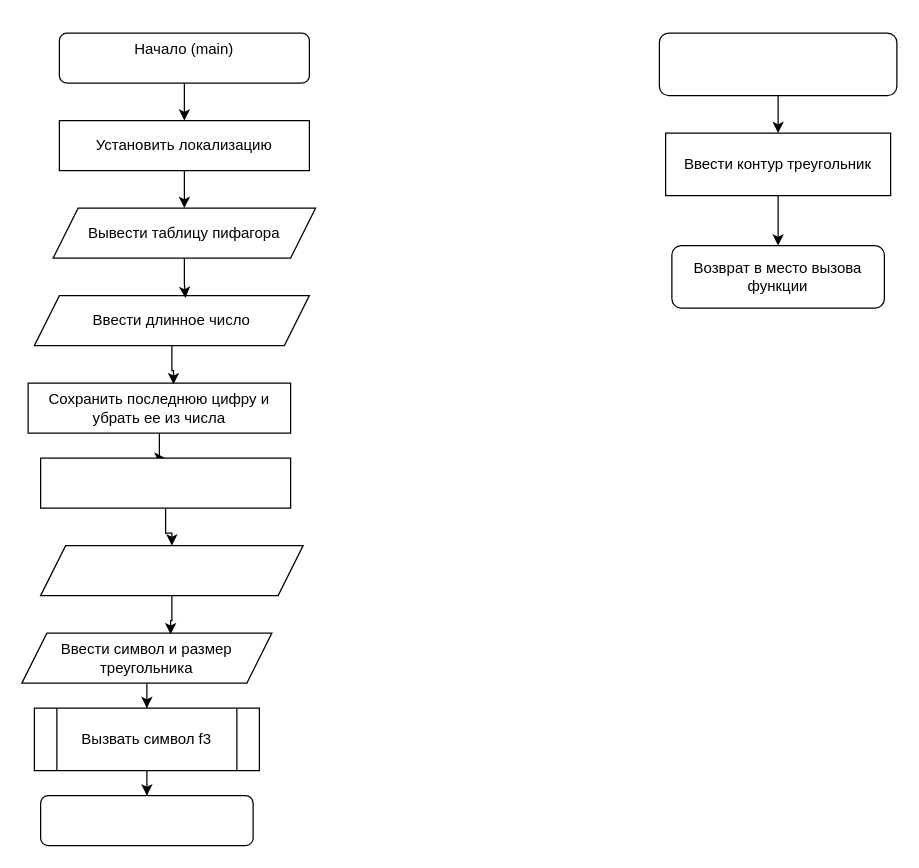
Image size: 919x868. Some labels were removed from this diagram. Each missing label, with the centre of its shape:
Ввести сумму четных цифр: (x=171, y=570)
Вход в f3: (x=777, y=64)
конец: (x=146, y=820)
цикл пока число больше нуля, прибавлять четные цифры к сумме: (x=165, y=482)
